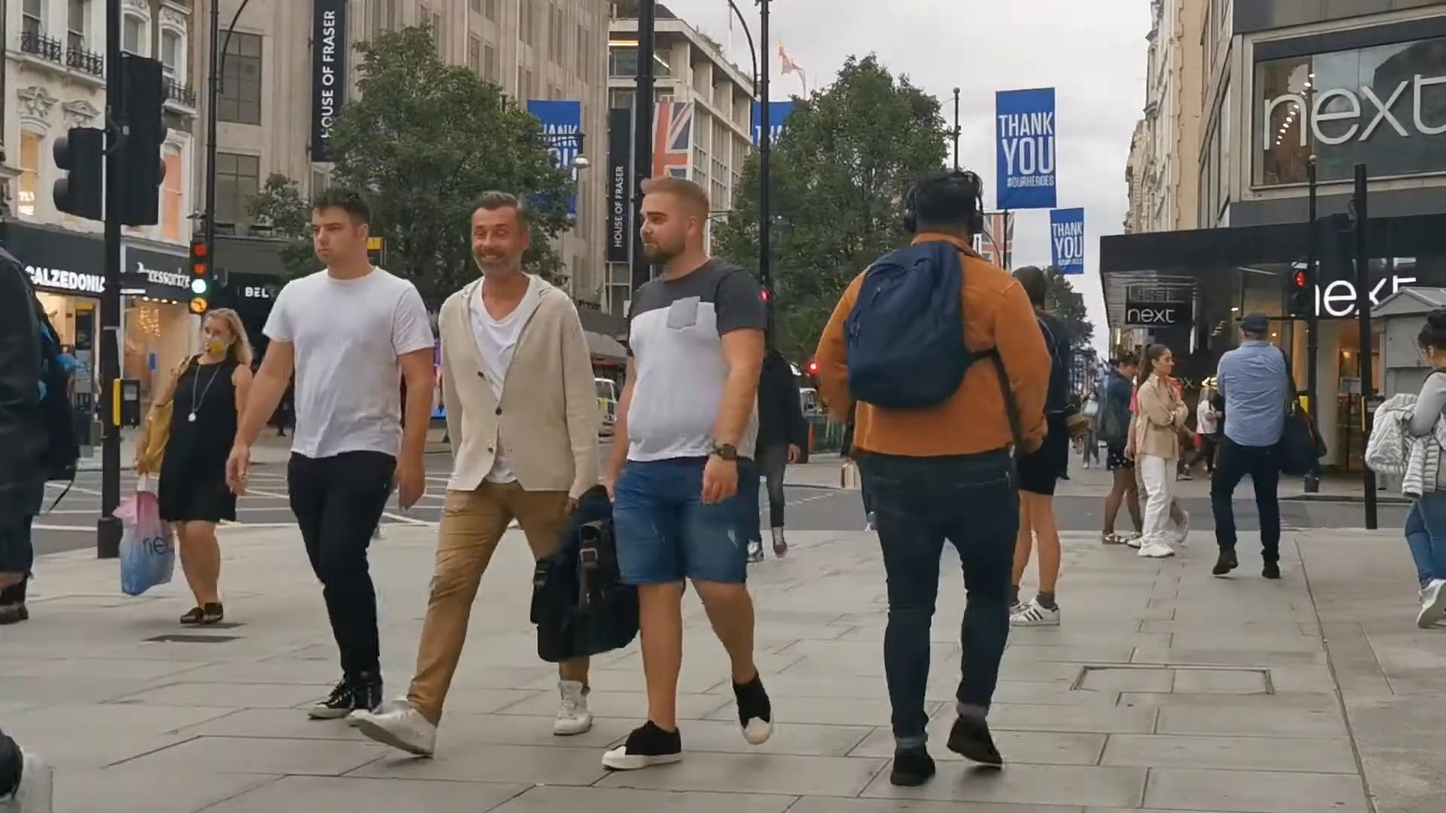no-helmet: (638, 176, 709, 263), (902, 167, 986, 235), (470, 191, 529, 277), (311, 185, 370, 265), (202, 308, 250, 356), (1417, 310, 1446, 369), (1140, 343, 1175, 375), (1240, 311, 1269, 341), (1116, 349, 1139, 380)
